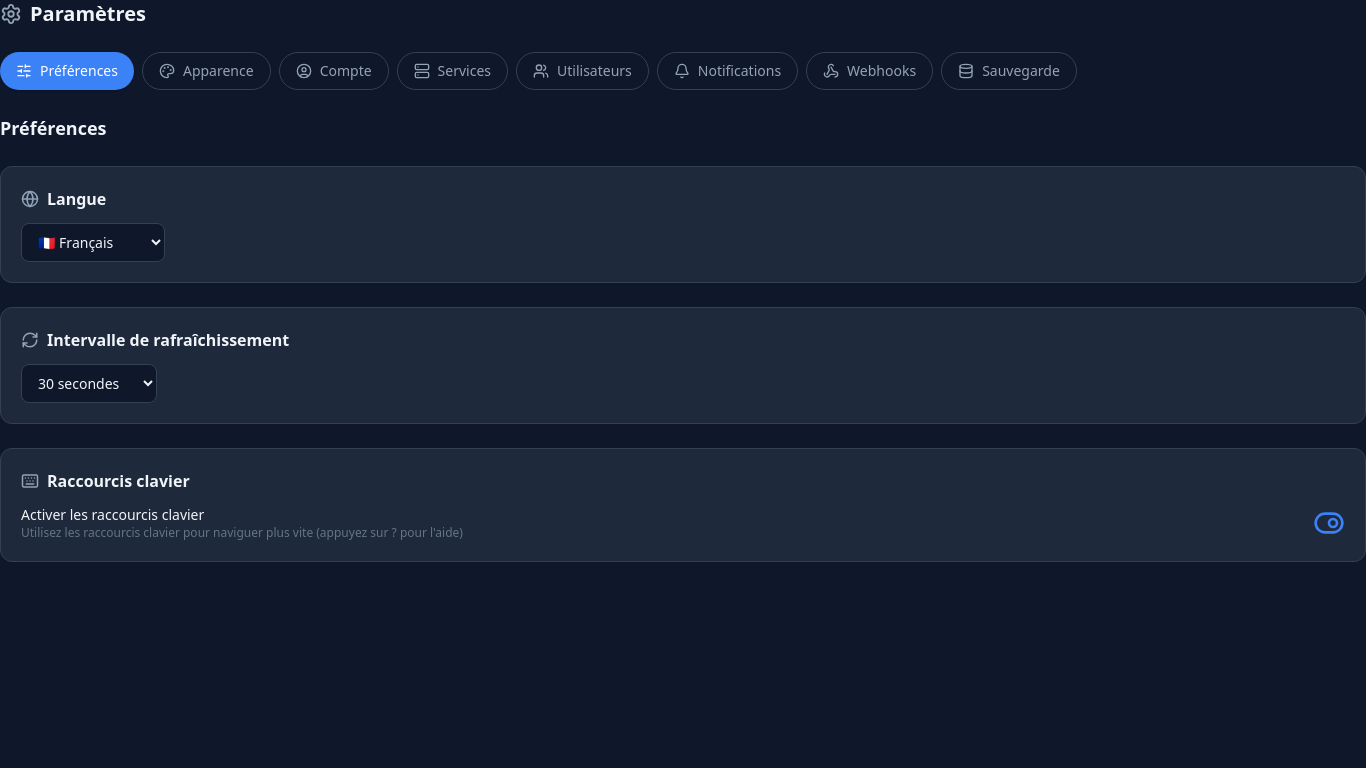
Test: SettingsPage › has 2FA section in account tab
This screenshot has width=1366, height=768.
What coordinates should you click on to do the following:
click the button with test id "settings-pill-account"
I would click on:
 (334, 71)
Its box is [279,52,389,90].
(page scrolled)
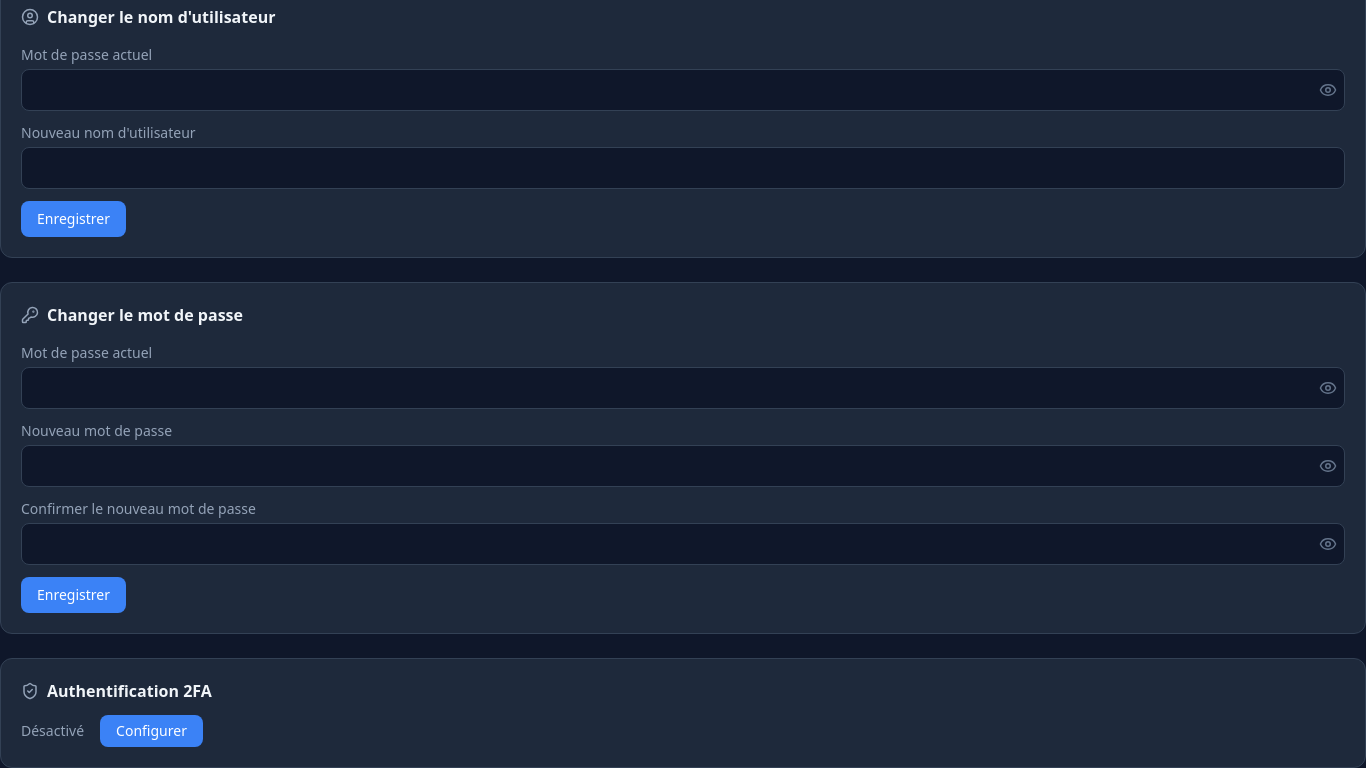
expect the element with test id "settings-2fa" is shown: met, box [0,658,1365,767]
expect the button with test id "totp-setup-btn" is shown: met, box [100,715,203,747]
